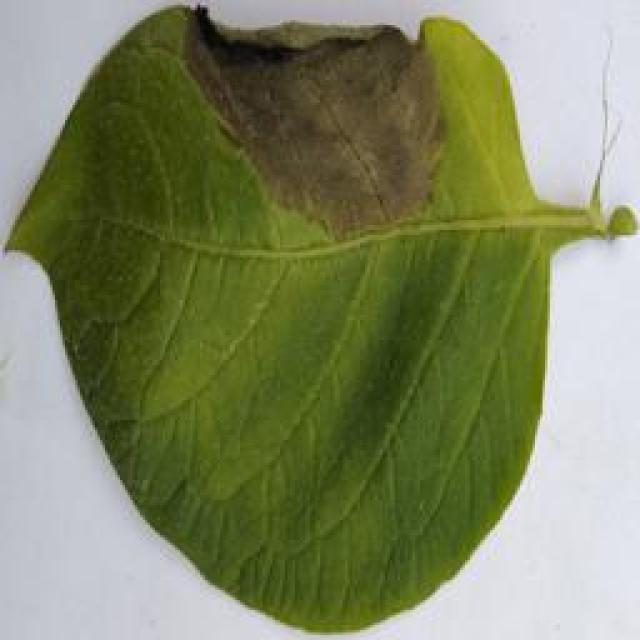Potato_Late_Blight: (14, 8, 608, 640)
